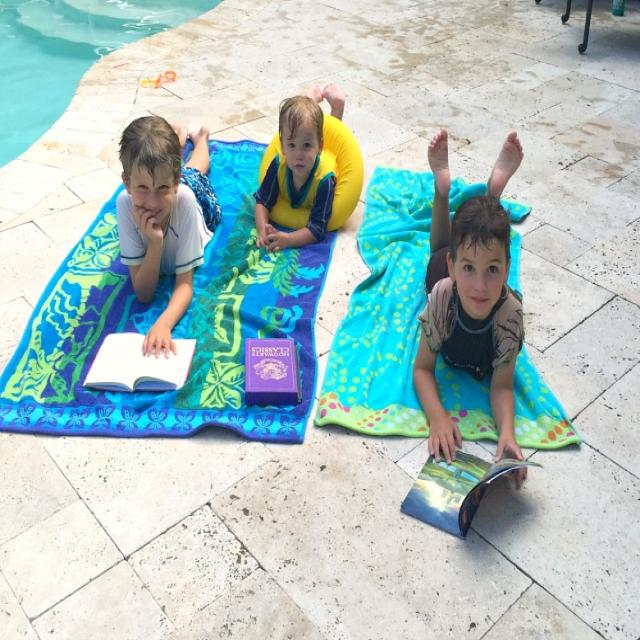child: (412, 126, 526, 484), (113, 114, 223, 363), (253, 73, 366, 259)
